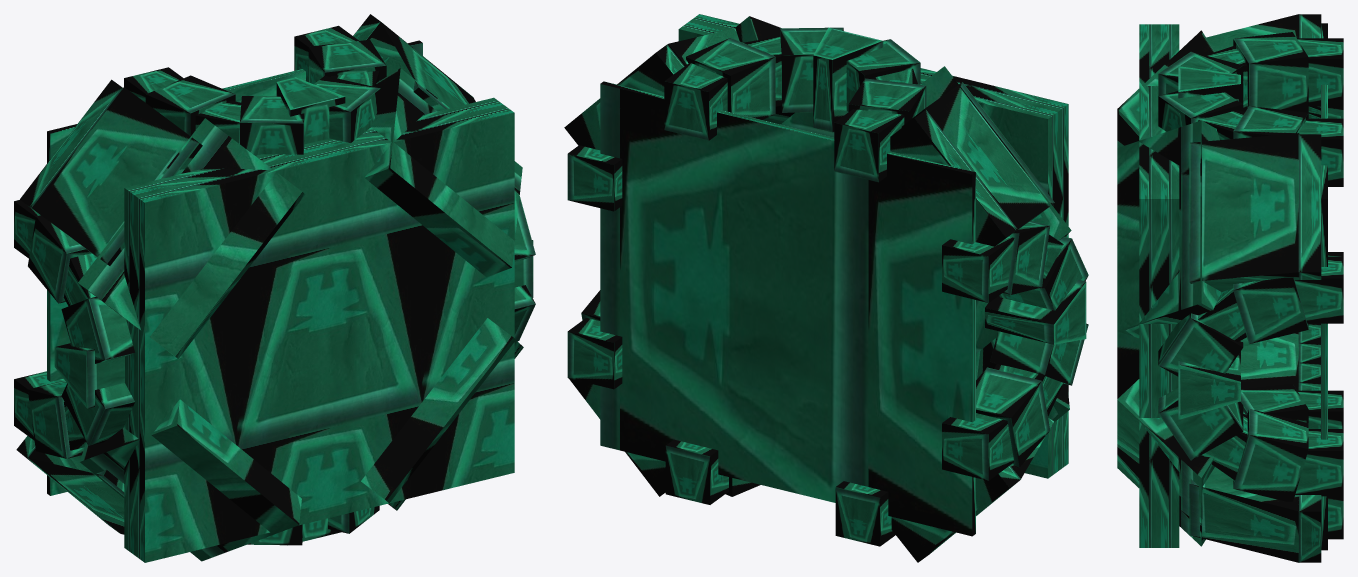
File: crossing2dp4way_wtf.obj
3 views of the same model, side by side, from view 1: azimuth 30°, elevation 25°; view 2: azimuth 150°, elevation 25°; view 3: azimuth 270°, elevation 25° (orthographic). The views are drawn at different scales.
Parts seen in each view (by area): view 1: group2; view 2: group2; view 3: group2.
Part boxes in pixels (box(x1,y1,x2,y2)): group2: box(14, 14, 535, 562); group2: box(564, 14, 1088, 562); group2: box(1117, 14, 1343, 562).
Bounding box in the file's own units: 660 × 630 × 298.
